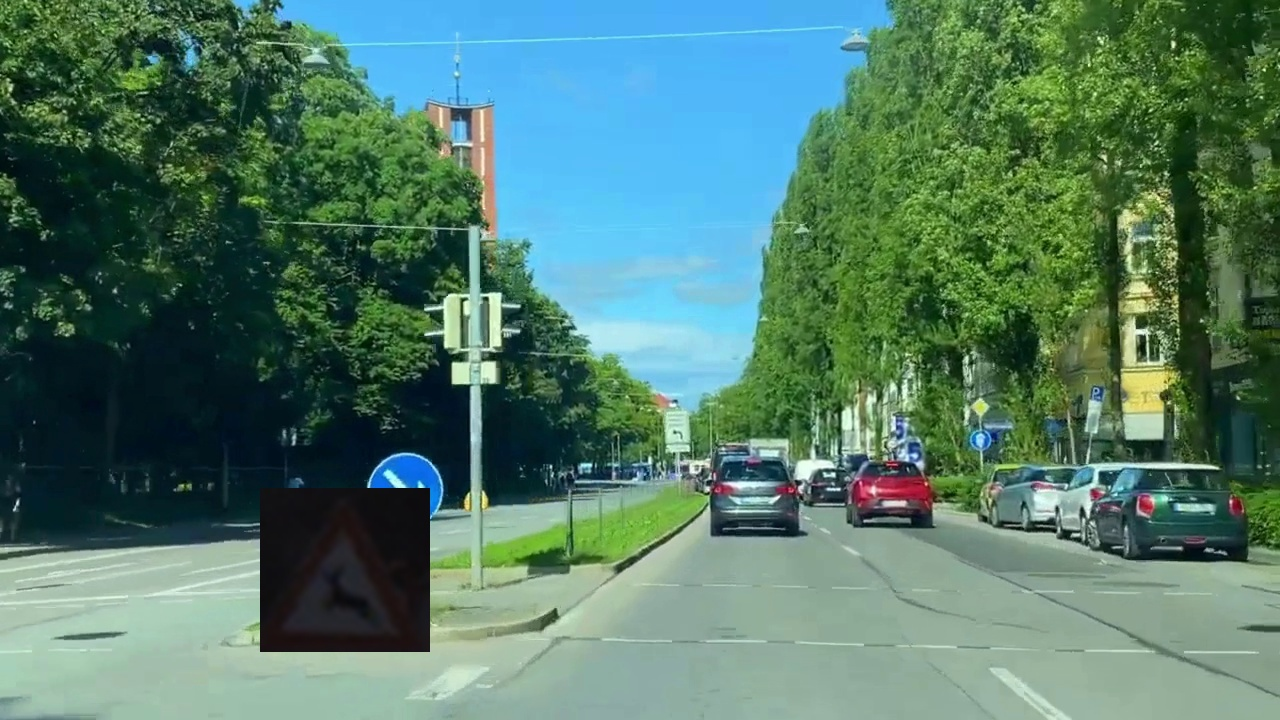Wild animals: (260, 488, 430, 652)
